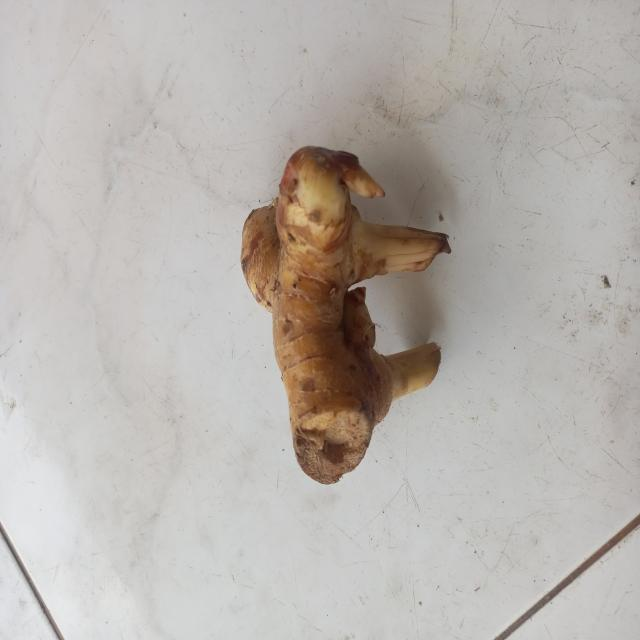ginger: (235, 154, 440, 486)
